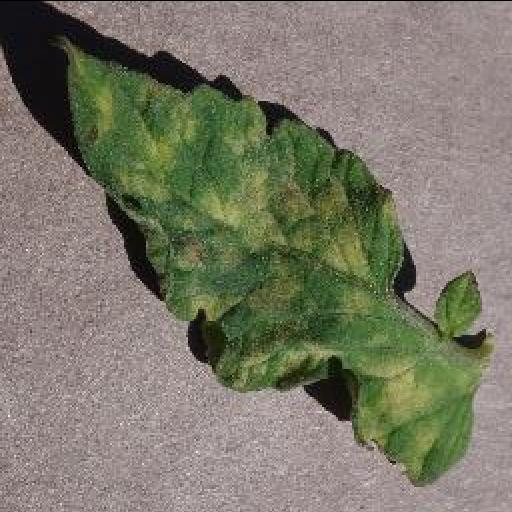disease_tomato: (54, 36, 488, 482)
